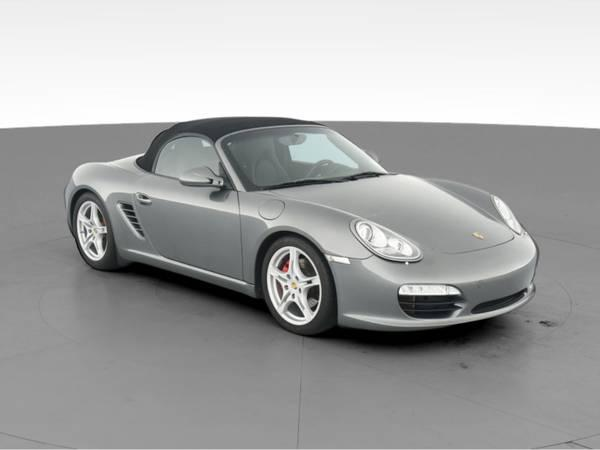Front_Bumper: (324, 226, 537, 325)
Front_Fender: (239, 190, 371, 297)
Front_Right_Door: (133, 174, 241, 290)
Front_Right_Window: (155, 136, 239, 191)
Front_Windshield: (223, 126, 389, 189)
Hood: (257, 172, 510, 253)
Left_Headlight: (491, 192, 518, 232)
Rear_Fender: (64, 162, 158, 265)
Right_Headlight: (354, 219, 426, 267)
Roof: (136, 116, 324, 192)
Wheel: (258, 236, 334, 333), (68, 193, 114, 268)
